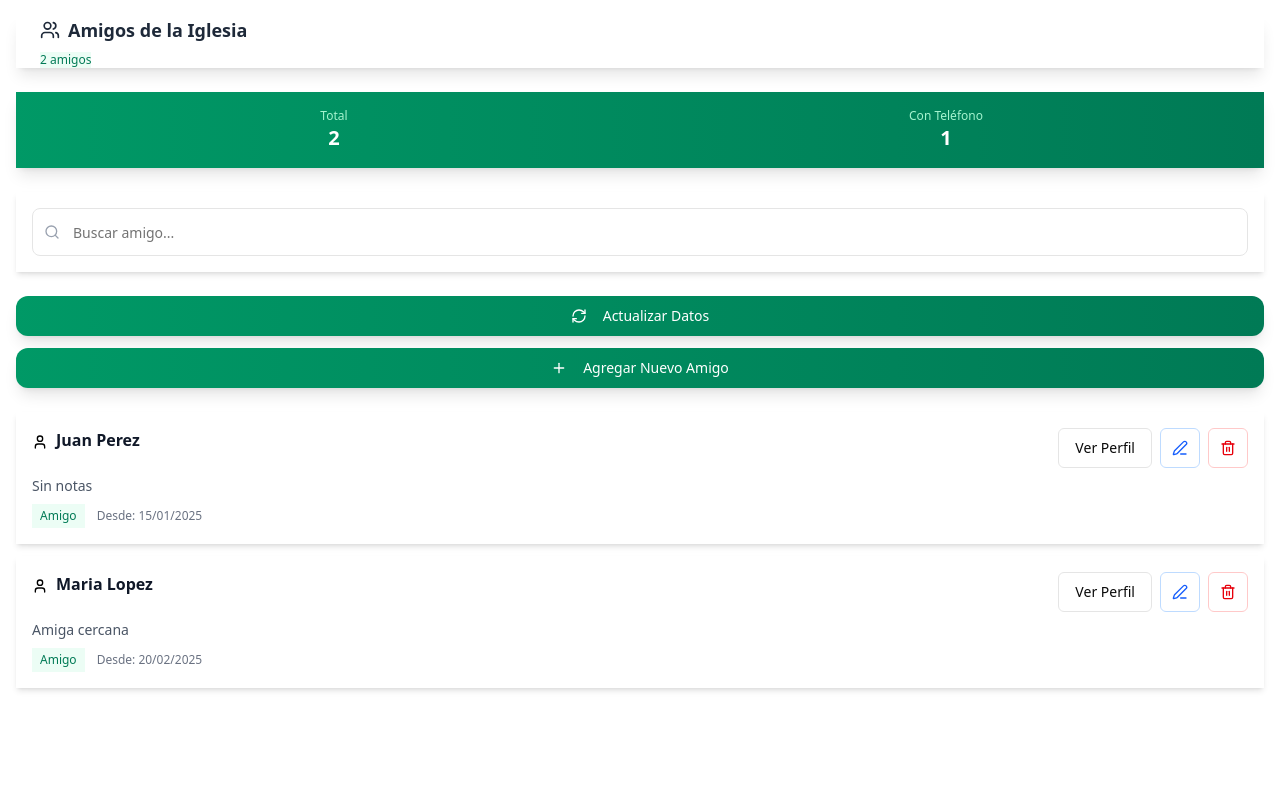
Test: AmigosListPage › opens form dialog when "Agregar Nuevo Amigo" is clicked
The width and height of the screenshot is (1280, 800).
Click the button "Agregar Nuevo Amigo": (640, 368) [16,348,1264,388]
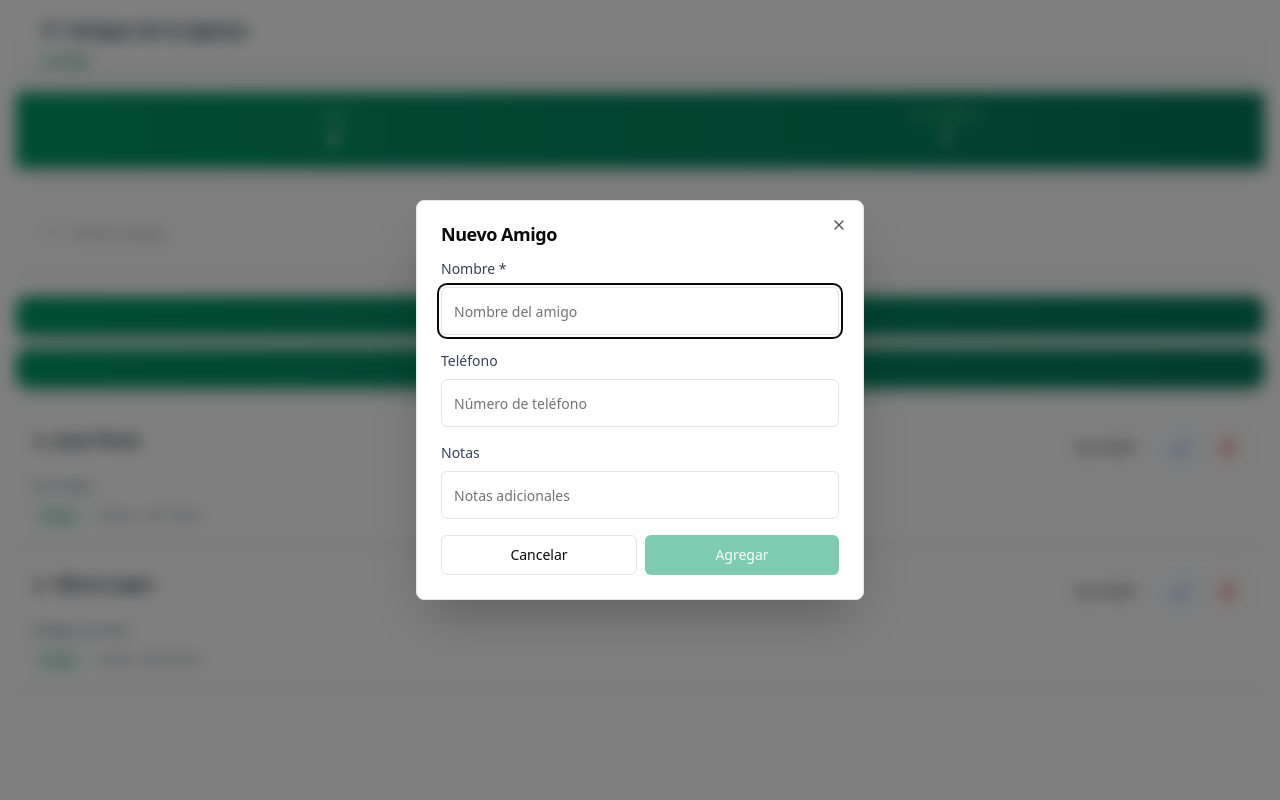
Result: the heading "Nuevo Amigo" is shown at [441,222,557,246]
